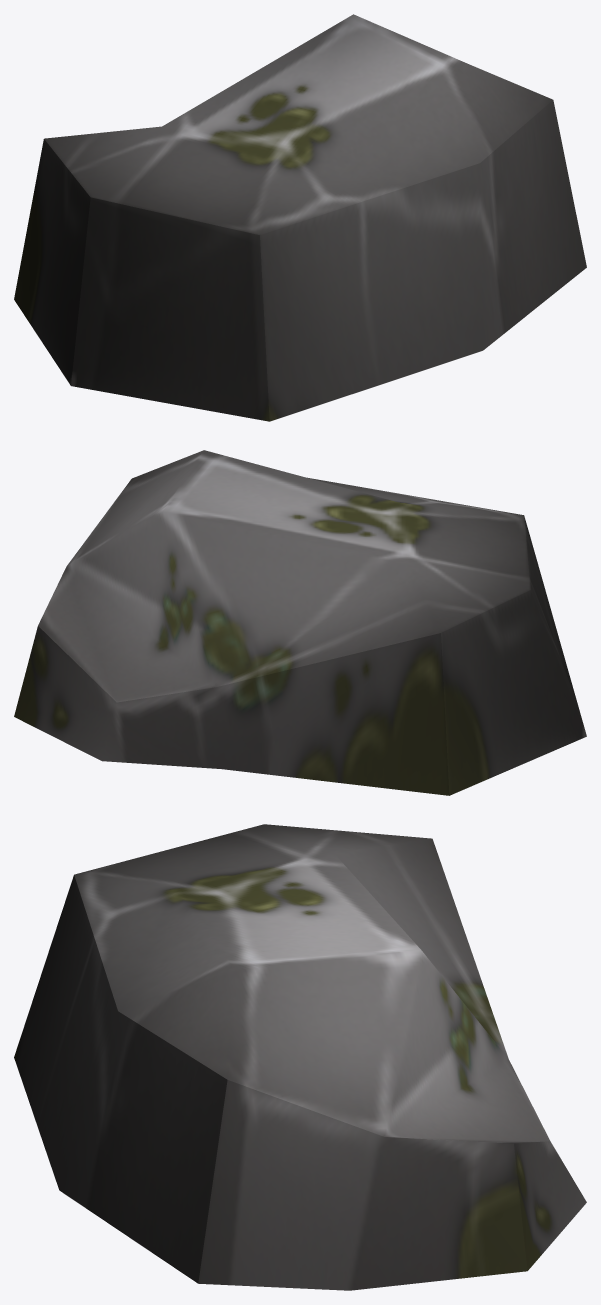
Rendered from stone06.fbx.
3 renders of one model, top to bottom at view 1: azimuth 30°, elevation 25°; view 2: azimuth 150°, elevation 25°; view 3: azimuth 270°, elevation 25°, orthographic. The views are drawn at different scales.
Parts seen in each view (by area): view 1: stone06; view 2: stone06; view 3: stone06.
Boxes of the visible parts, <box> form: stone06: <box>14,14,586,421</box>; stone06: <box>14,450,586,795</box>; stone06: <box>14,824,586,1290</box>.
Bounding box in the file's own units: 9.22 × 3.67 × 7.5.
Materials: 1 (1 with a texture image).
